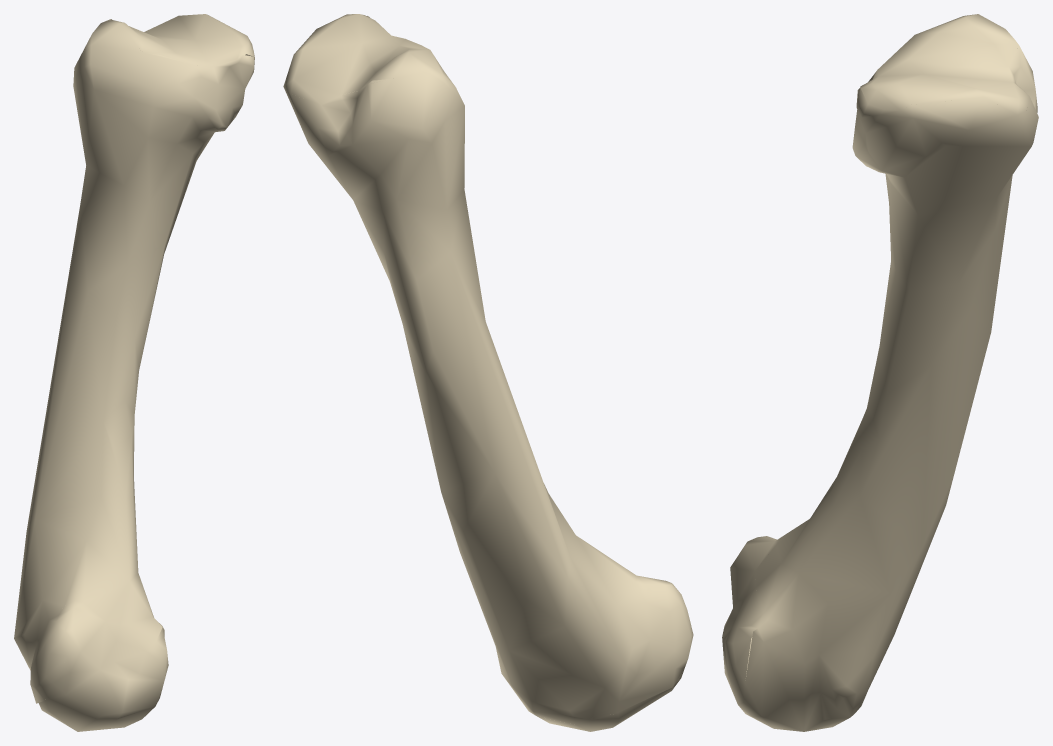
Rendered from esqueleto-second-metacarpal-bone-r.glb.
3 views of the same model, side by side, from view 1: azimuth 30°, elevation 25°; view 2: azimuth 150°, elevation 25°; view 3: azimuth 270°, elevation 25° (orthographic). The views are drawn at different scales.
Parts seen in each view (by area): view 1: Second metacarpal bone.r; view 2: Second metacarpal bone.r; view 3: Second metacarpal bone.r.
Boxes of the visible parts, x1,y1,x2,y2 form: Second metacarpal bone.r: (14,14,254,731); Second metacarpal bone.r: (283,14,693,731); Second metacarpal bone.r: (722,14,1038,731).
Size of the model in its own units: 0.0321 by 0.0705 by 0.0266.
